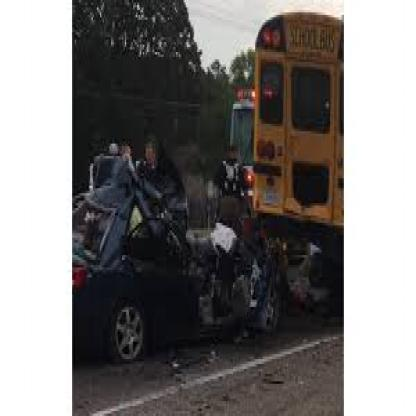accident: (73, 125, 341, 350)
